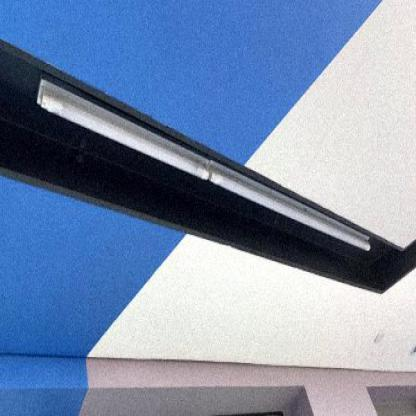light_off: (31, 47, 377, 264)
